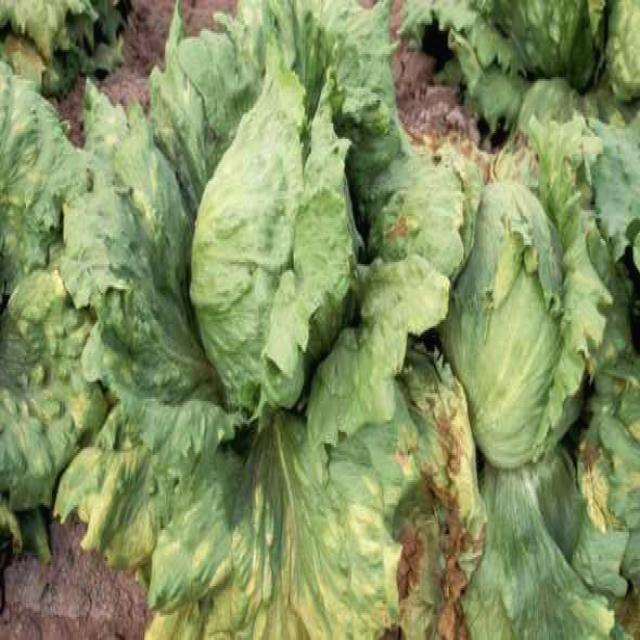Downy_Mildew: (340, 187, 602, 636)
